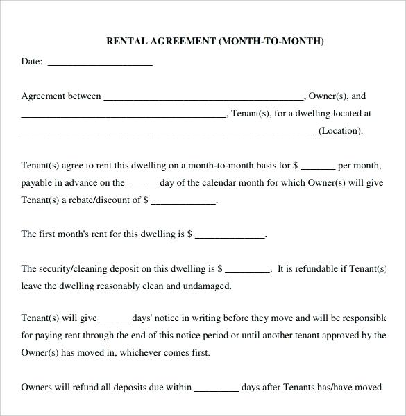textline: (19, 123, 319, 139), (105, 86, 304, 107), (17, 106, 229, 122), (46, 49, 155, 71), (193, 224, 269, 245), (150, 193, 220, 209), (193, 378, 241, 397), (225, 261, 272, 278), (299, 152, 336, 173), (125, 175, 159, 192), (97, 310, 131, 327)
